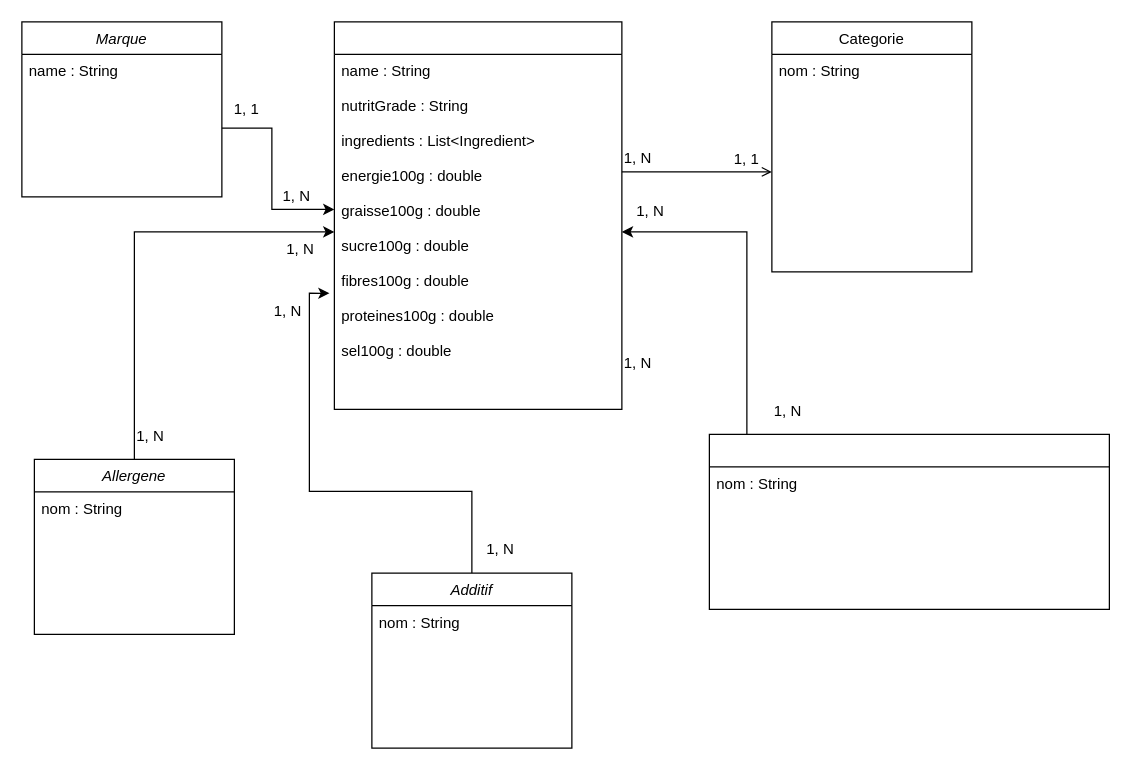
Some shapes in this 1131 by 770 pixel diagram are drawn without their labels. Each missing label, with the box of its shape:
Ingredient: (708, 433, 1109, 609)
Produit: (333, 21, 622, 409)
